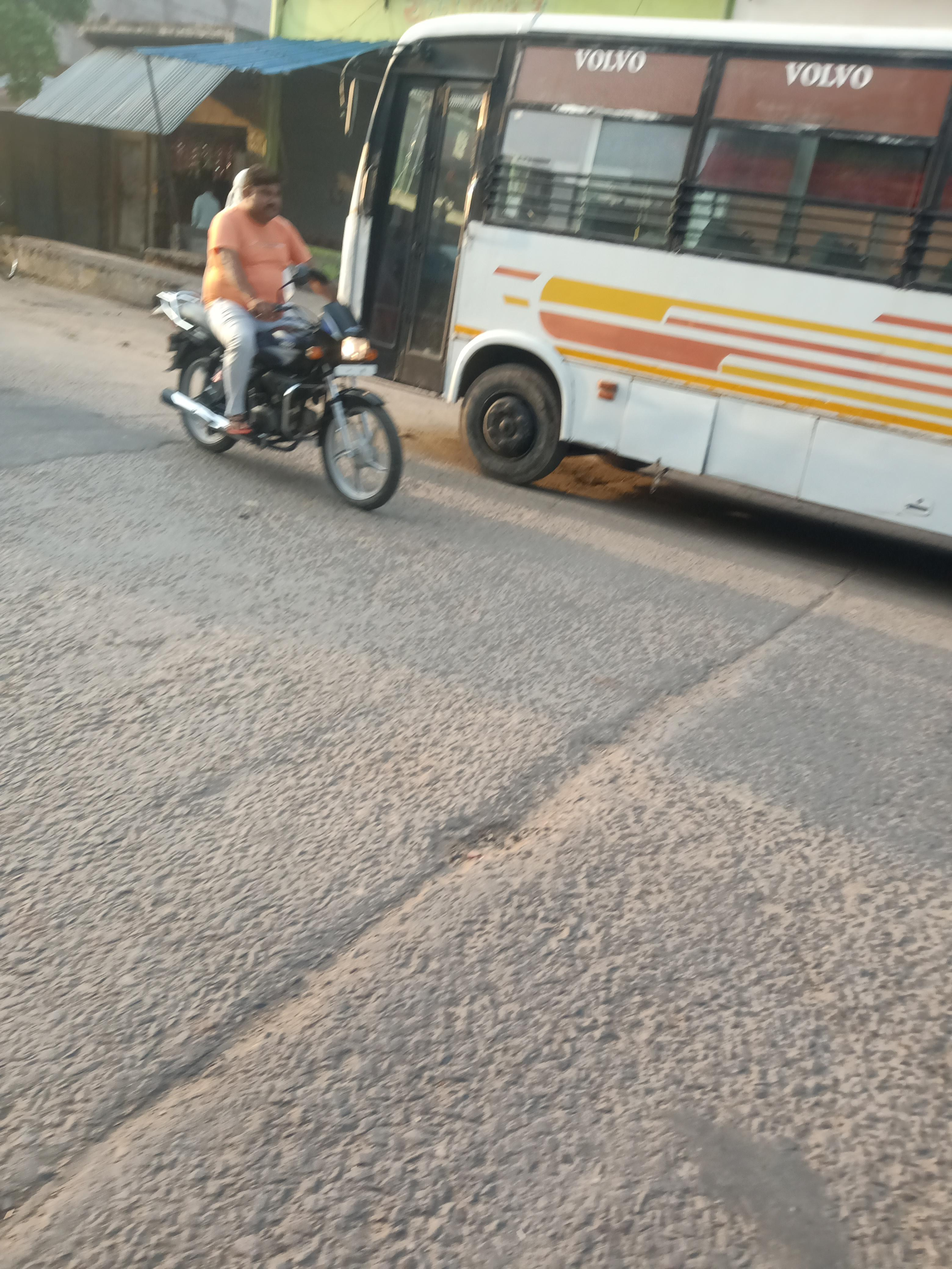non-ambulance: (325, 0, 952, 575)
